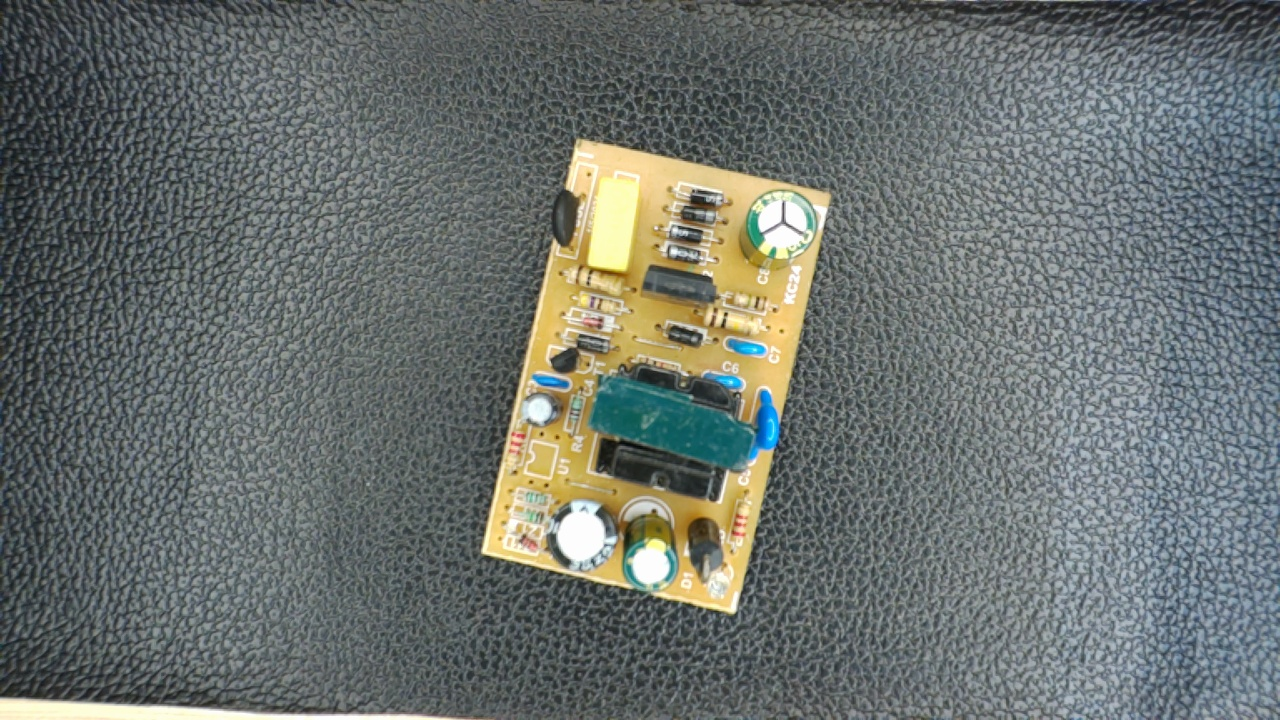fuse: (551, 176, 590, 264)
hv_capacitor: (738, 183, 822, 272)
mov: (747, 383, 785, 471)
